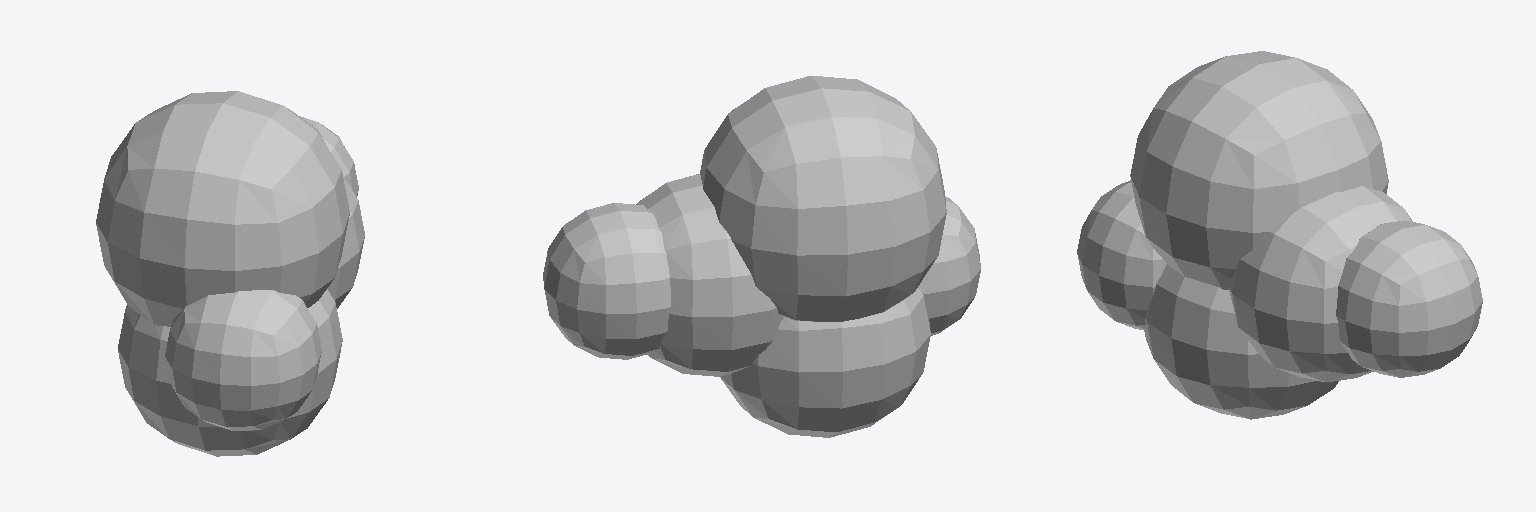
Rendered from cloud2.obj.
3 views of the same model, side by side, from view 1: azimuth 30°, elevation 25°; view 2: azimuth 150°, elevation 25°; view 3: azimuth 270°, elevation 25° (orthographic).
Visible parts, largest first — view 1: cloud2; view 2: cloud2; view 3: cloud2.
Part boxes in pixels (bbox=[...]): cloud2: bbox=[96, 91, 364, 456]; cloud2: bbox=[543, 76, 980, 437]; cloud2: bbox=[1077, 51, 1482, 419].
Bounding box in the file's own units: 2.85 × 2.99 × 3.22.